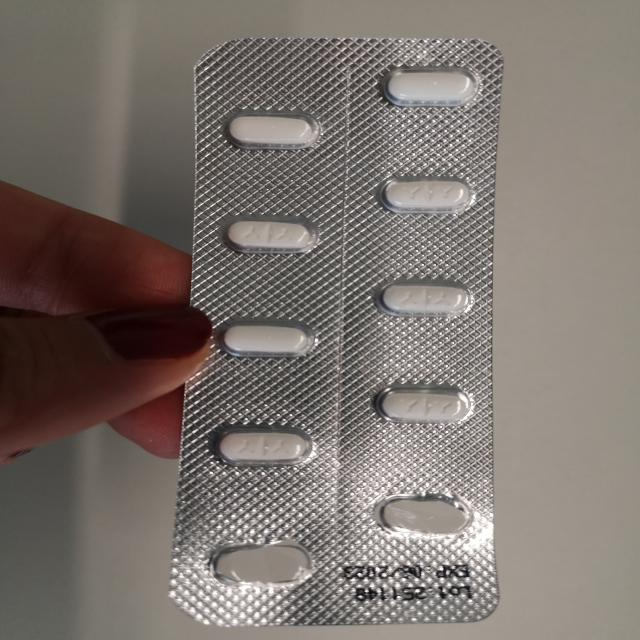Pill: (377, 60, 484, 113), (205, 540, 317, 590), (217, 210, 324, 260), (366, 490, 476, 538), (365, 382, 477, 428), (213, 316, 320, 362), (221, 110, 327, 154), (370, 276, 478, 319), (376, 173, 480, 216), (211, 428, 317, 468)
